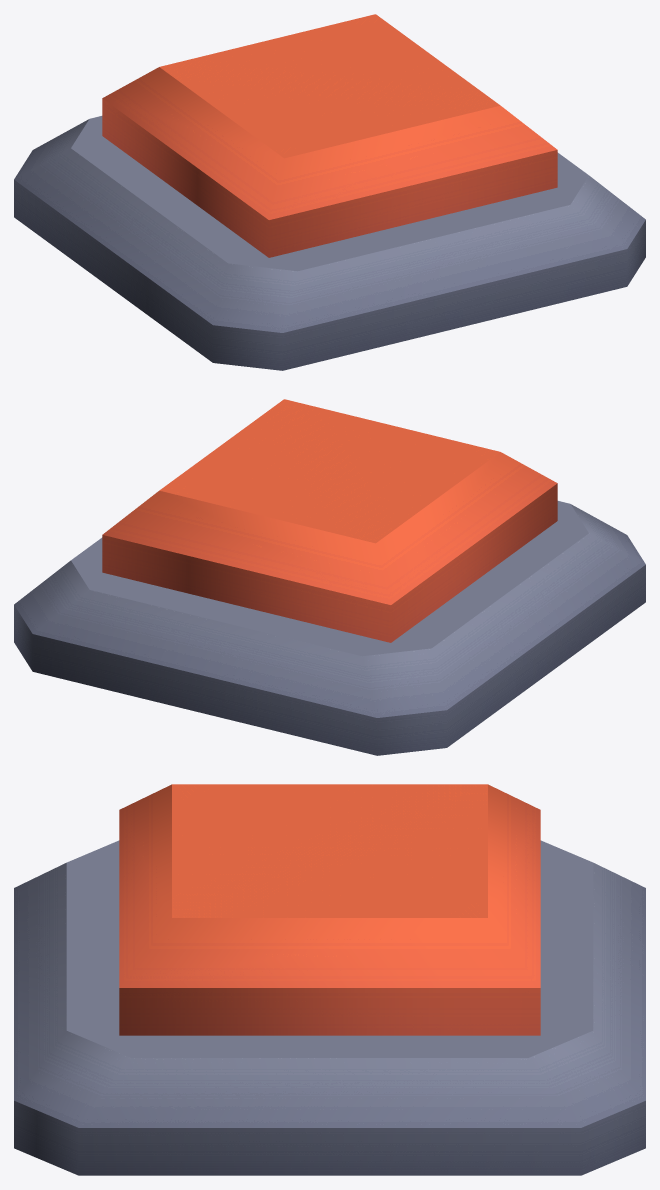
The model's file is button-square.glb.
The picture shows the model from 3 angles, top to bottom: view 1: azimuth 30°, elevation 25°; view 2: azimuth 150°, elevation 25°; view 3: azimuth 270°, elevation 25°; orthographic projection. The views are drawn at different scales.
Visible parts, largest first — view 1: button-square, button; view 2: button-square, button; view 3: button-square, button.
Boxes of the visible parts, <box> form: button-square: <box>14,116,645,370</box>; button: <box>102,14,557,257</box>; button-square: <box>14,501,645,755</box>; button: <box>102,399,557,642</box>; button-square: <box>14,840,645,1175</box>; button: <box>119,784,540,1035</box>.
Bounding box in the file's own units: 0.6 × 0.2 × 0.6.
1 material, 1 textured.
